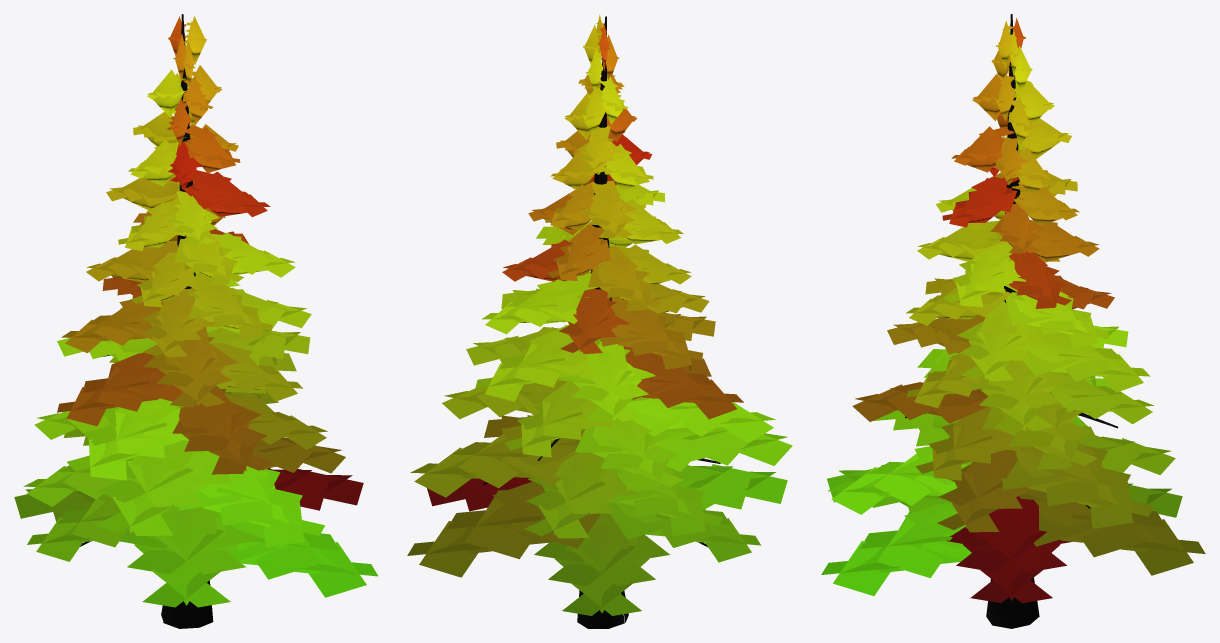
File: tree_conifer.glb
The picture shows the model from 3 angles, left to right: view 1: azimuth 30°, elevation 25°; view 2: azimuth 150°, elevation 25°; view 3: azimuth 270°, elevation 25°; orthographic projection.
Parts seen in each view (by area): view 1: foliage_drooping_pine_sprays, foliage_full_pine_branch_pads, bark_pine_trunk; view 2: foliage_drooping_pine_sprays, foliage_full_pine_branch_pads, bark_pine_trunk; view 3: foliage_drooping_pine_sprays, foliage_full_pine_branch_pads, bark_pine_trunk.
Boxes of the visible parts, left/top/right/bottom form: foliage_drooping_pine_sprays: left=14, top=22, right=377, bottom=607; foliage_full_pine_branch_pads: left=54, top=16, right=339, bottom=605; bark_pine_trunk: left=80, top=14, right=213, bottom=628; foliage_drooping_pine_sprays: left=407, top=22, right=792, bottom=615; foliage_full_pine_branch_pads: left=445, top=14, right=758, bottom=613; bark_pine_trunk: left=483, top=16, right=720, bottom=628; foliage_drooping_pine_sprays: left=821, top=25, right=1205, bottom=603; foliage_full_pine_branch_pads: left=860, top=18, right=1166, bottom=600; bark_pine_trunk: left=905, top=14, right=1118, bottom=628.
Bounding box in the file's own units: 3.22 × 5.71 × 3.31.
